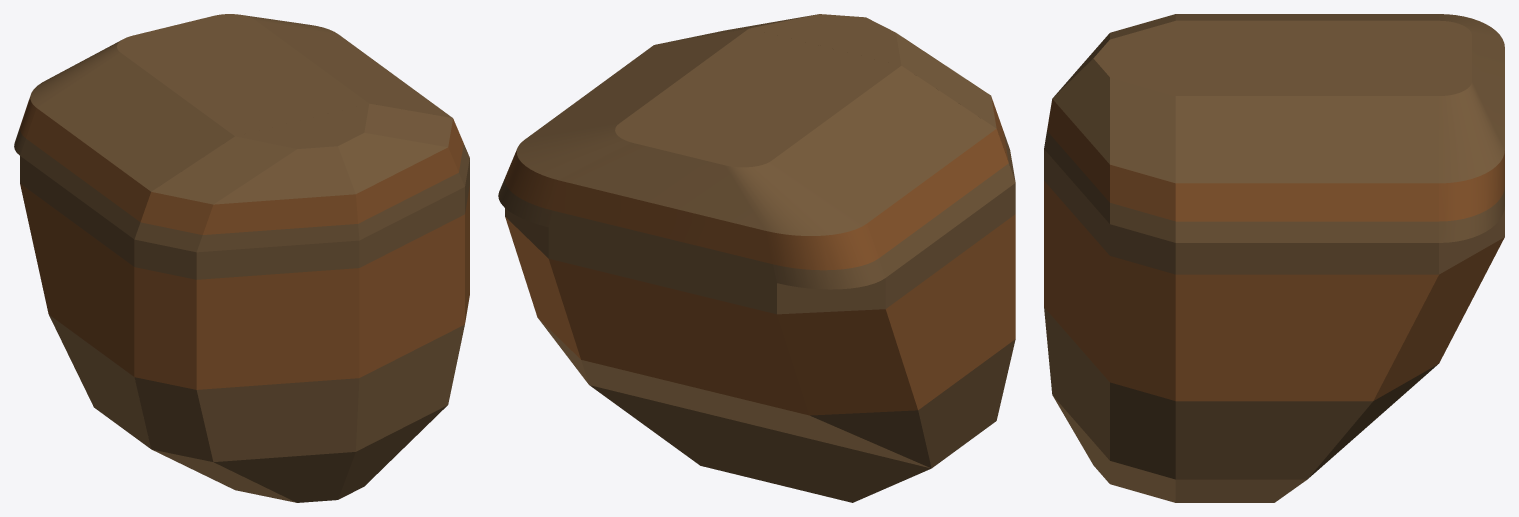
Rendered from Debris1.fbx.
3 renders of one model, left to right at view 1: azimuth 30°, elevation 25°; view 2: azimuth 150°, elevation 25°; view 3: azimuth 270°, elevation 25°, orthographic. The views are drawn at different scales.
Parts seen in each view (by area): view 1: mergedBlocks; view 2: mergedBlocks; view 3: mergedBlocks.
Boxes of the visible parts, box(x1,y1,x2,y2) form: mergedBlocks: box(14, 14, 469, 502); mergedBlocks: box(498, 14, 1015, 502); mergedBlocks: box(1044, 14, 1504, 502).
Size of the model in its own units: 10 by 10.08 by 10.35.
